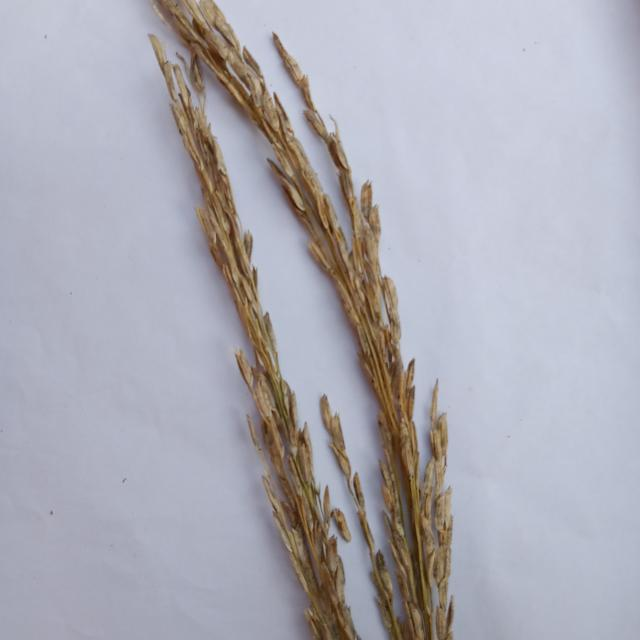Neck_Blast: (166, 0, 446, 636), (170, 99, 354, 638)
